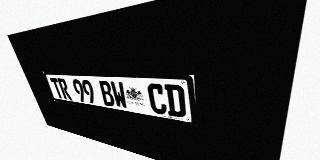9: (80, 79, 97, 104), (71, 79, 87, 102)
B: (98, 80, 116, 107)
C: (146, 83, 167, 115)
D: (164, 84, 186, 118)
R: (57, 78, 72, 100)
T: (49, 78, 64, 99)
W: (110, 81, 128, 109)
